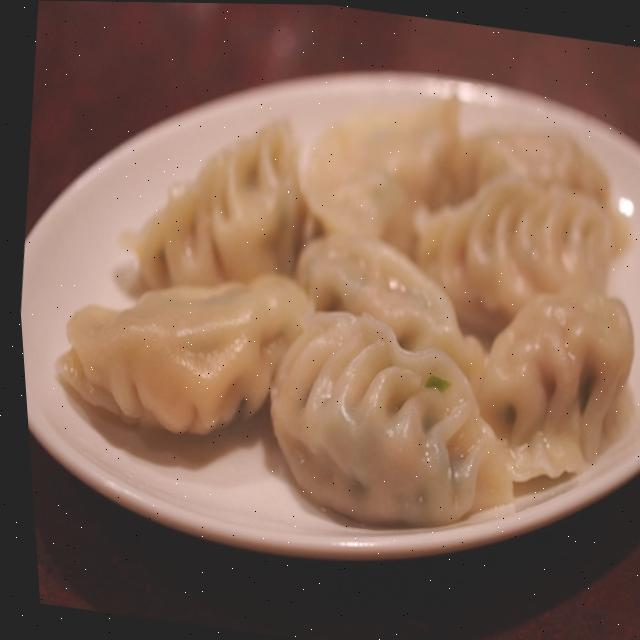带馅早点: (0, 9, 640, 581)
